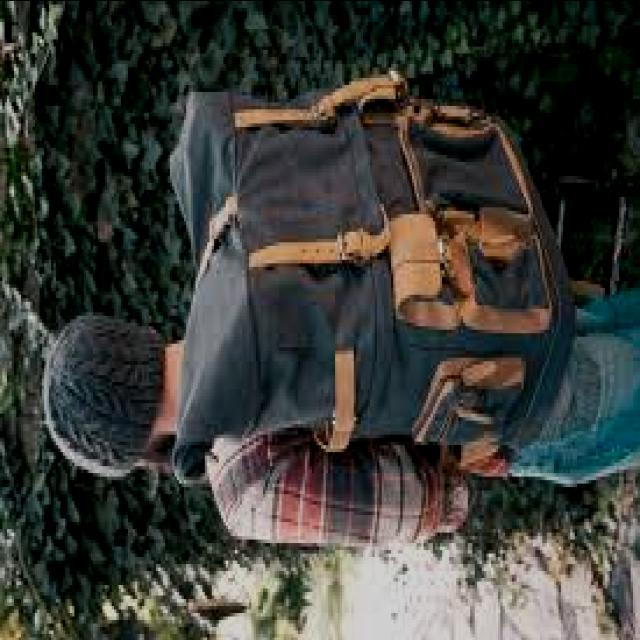backpack: (145, 23, 573, 523)
